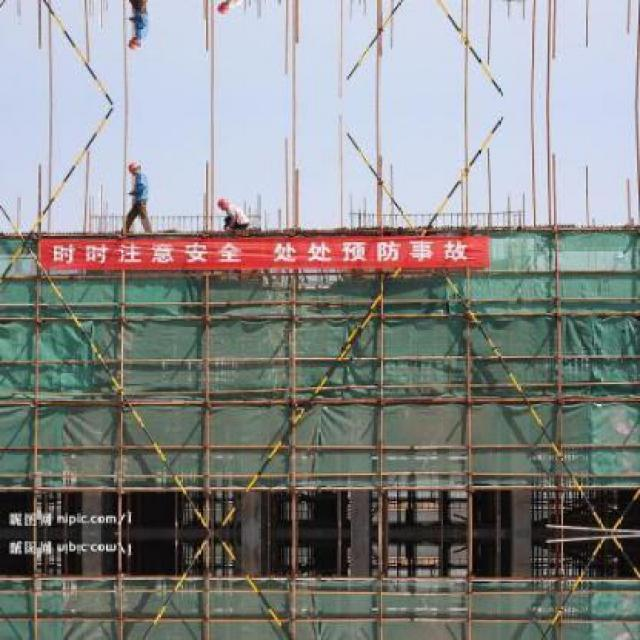hat: (125, 159, 149, 178), (214, 190, 232, 212)
